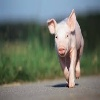heo: (45, 8, 83, 60)
